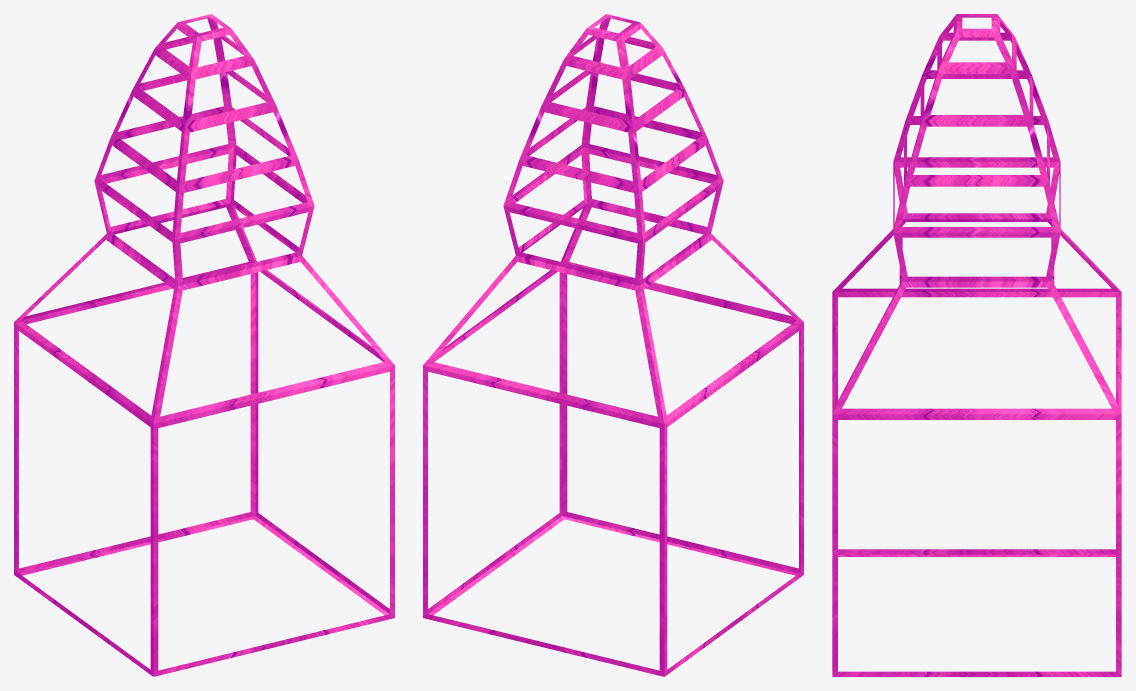
3 views of the same model, side by side, from view 1: azimuth 30°, elevation 25°; view 2: azimuth 150°, elevation 25°; view 3: azimuth 270°, elevation 25° (orthographic). The views are drawn at different scales.
Visible parts, largest first — view 1: Cube.001; view 2: Cube.001; view 3: Cube.001.
Part boxes in pixels (x1,y1,x2,y2): Cube.001: [14, 14, 394, 676]; Cube.001: [423, 14, 803, 676]; Cube.001: [832, 14, 1121, 676].
Bounding box in the file's own units: 2 × 4.52 × 2.
Materials: 1 (1 with a texture image).
